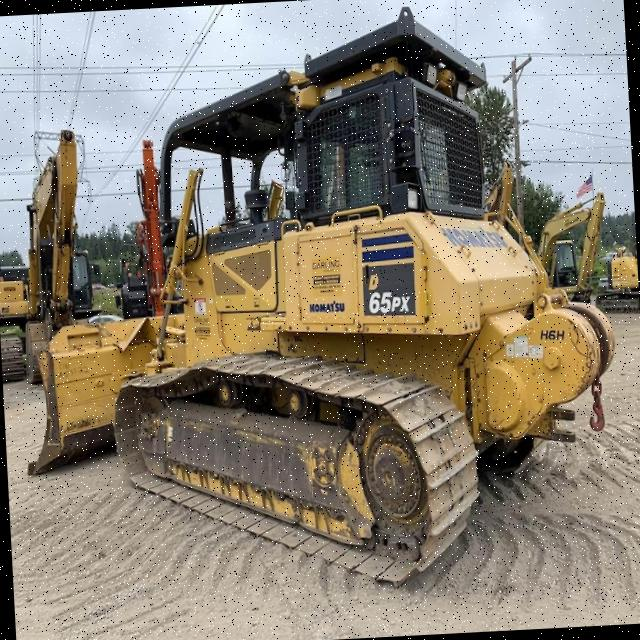Bulldozer: (36, 13, 640, 604)
